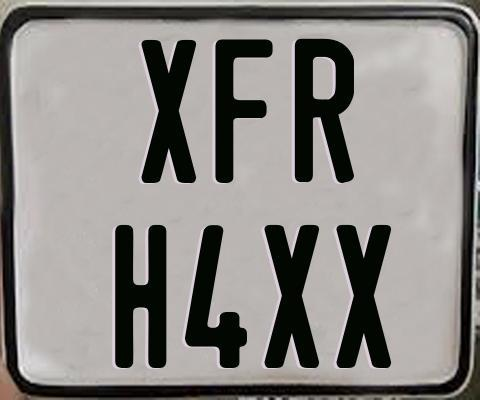4: (185, 224, 252, 370)
F: (213, 39, 274, 183)
H: (114, 224, 166, 372)
R: (295, 39, 360, 184)
X: (261, 224, 321, 369), (141, 37, 199, 181), (333, 224, 388, 368)
